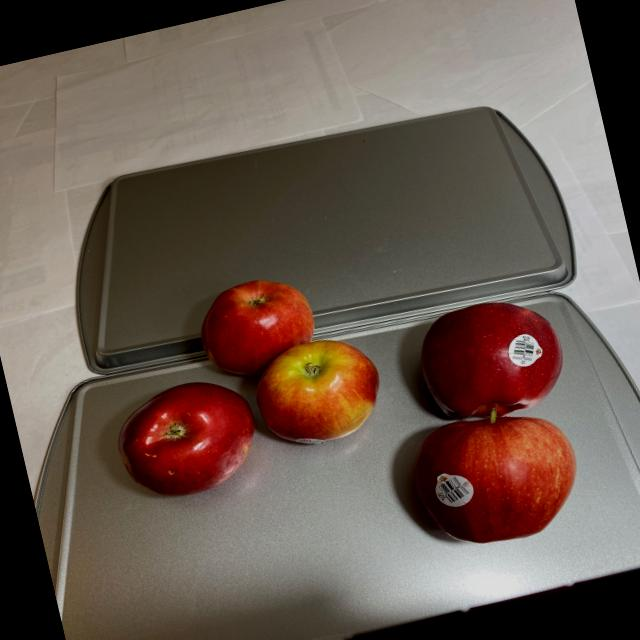apple: (80, 255, 396, 510), (375, 282, 611, 562)
